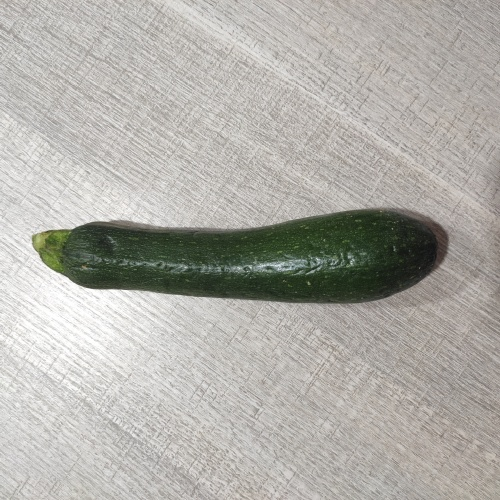zucchine: (32, 205, 449, 316)
